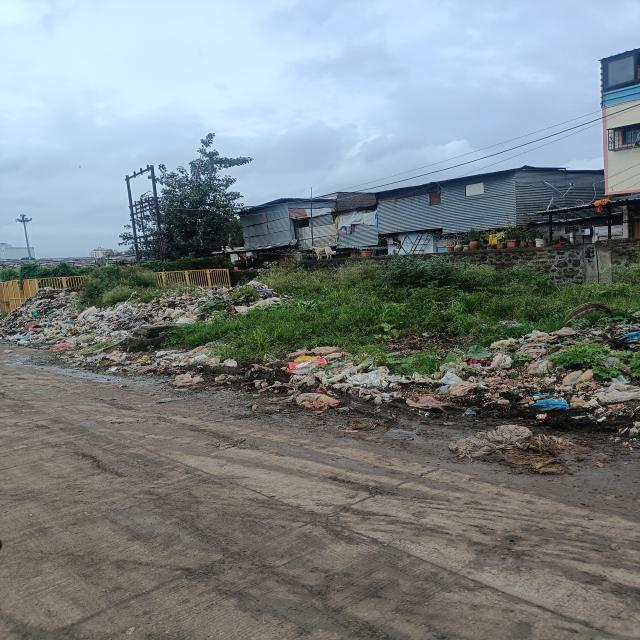garbage: (292, 333, 640, 427), (80, 346, 282, 387), (13, 289, 193, 334)
